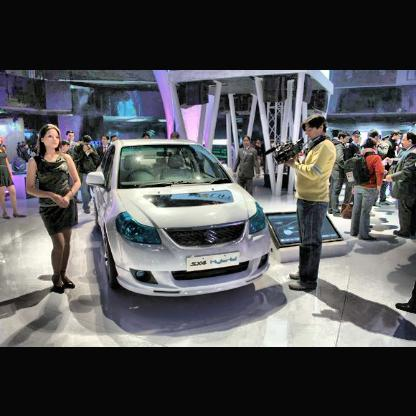Suzuki SX4 Sedan 2012: (86, 137, 273, 297)
